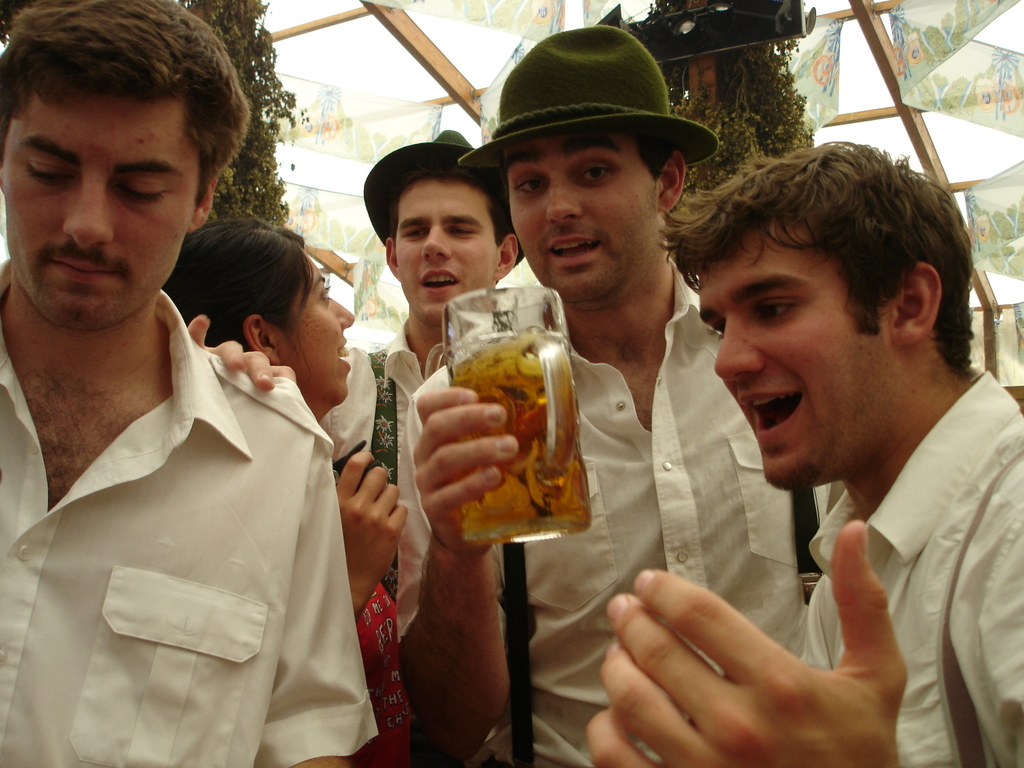Beer: (440, 320, 583, 543)
